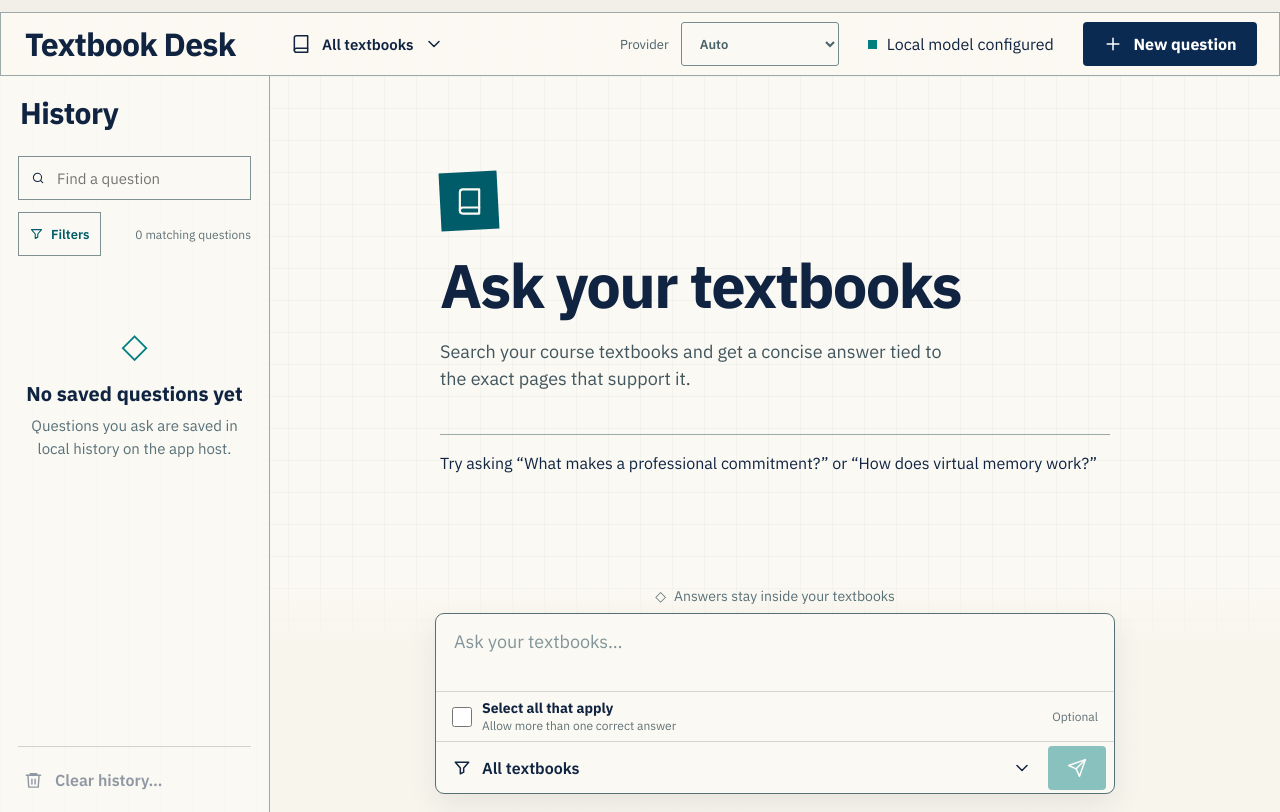
it: Textbook Desk › announces an automatic fallback without changing the user selection
Type "Explain this" into the text box with placeholder "Ask your textbooks…" at (775, 650), box [436,614,1114,687]
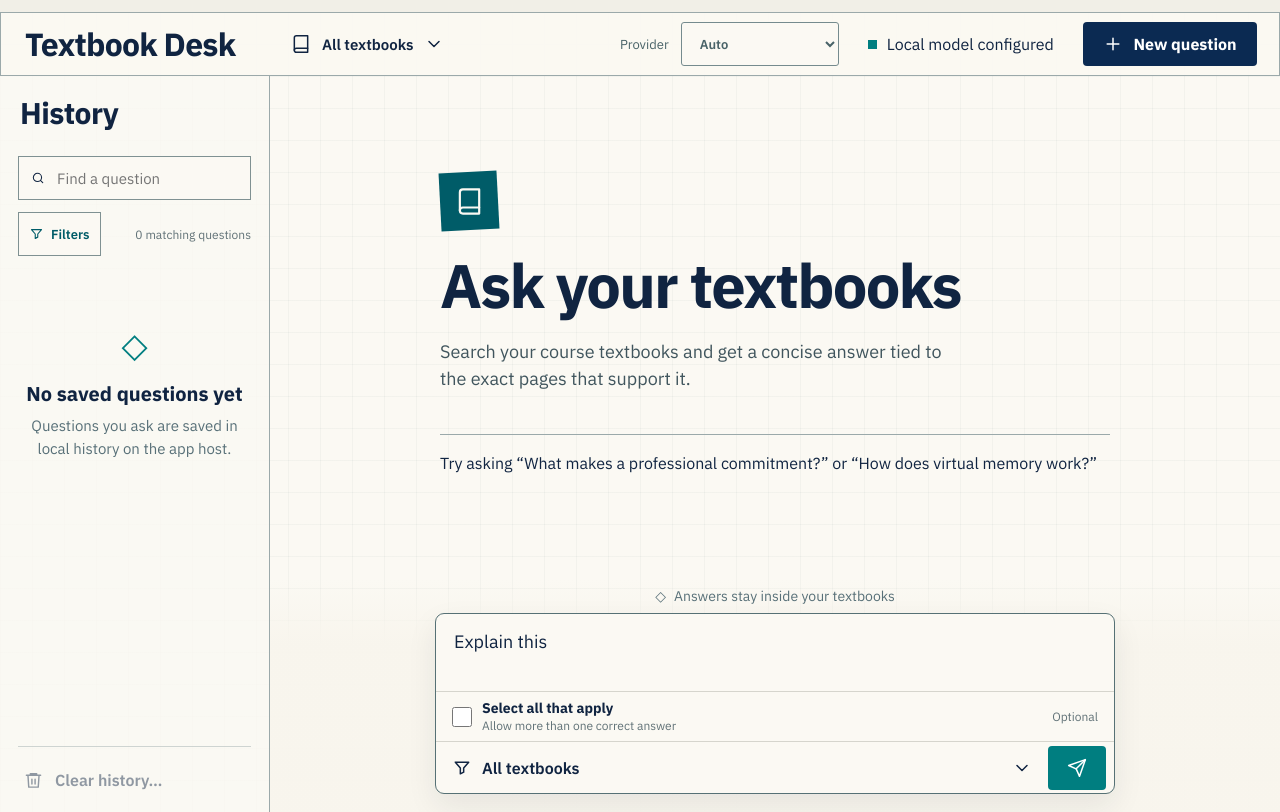
Click the button named "Ask question" at (1077, 768), box [1048,746,1106,790]
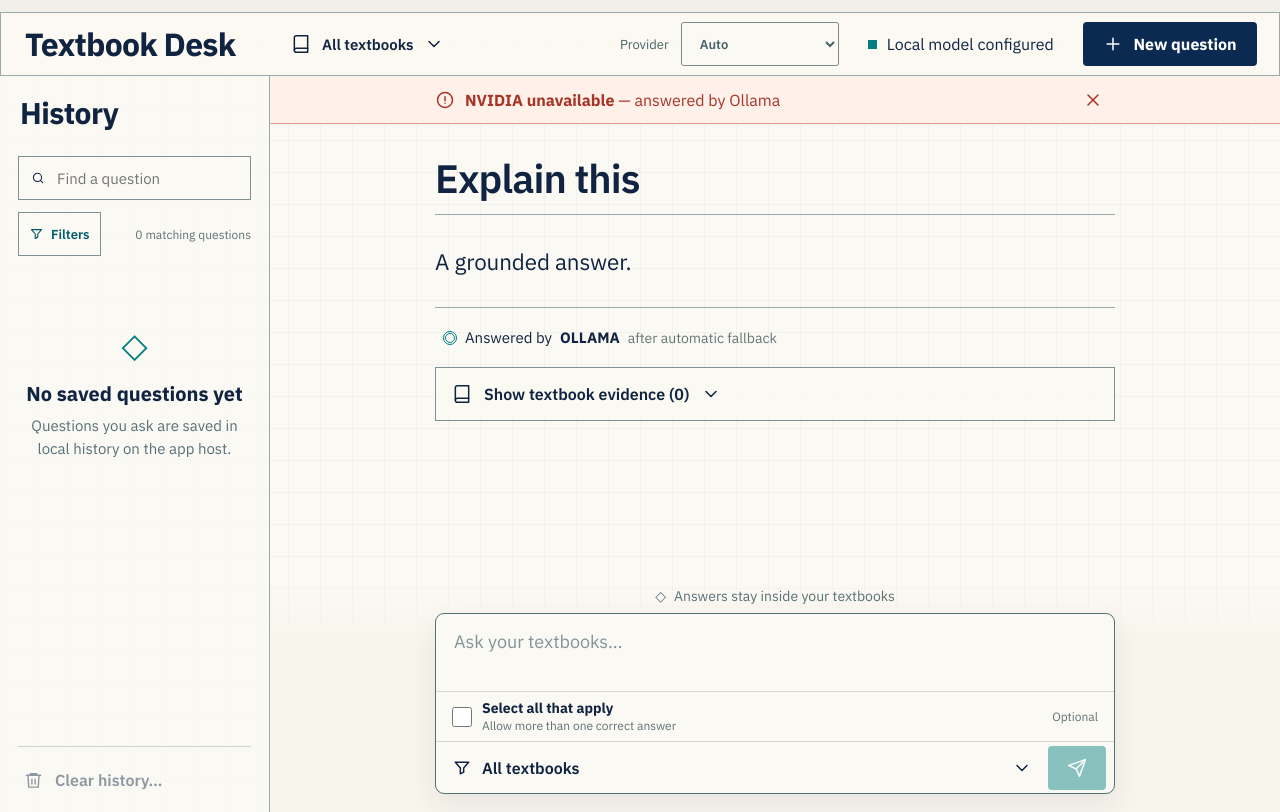
Expected: the dropdown named "Answer provider" shows "Auto", [681,22,839,66]
Now the text "NVIDIA unavailable" is shown, box [465,90,614,110]
Click the button named "Dismiss fallback notice" at (1093, 100), box [1071,78,1115,122]
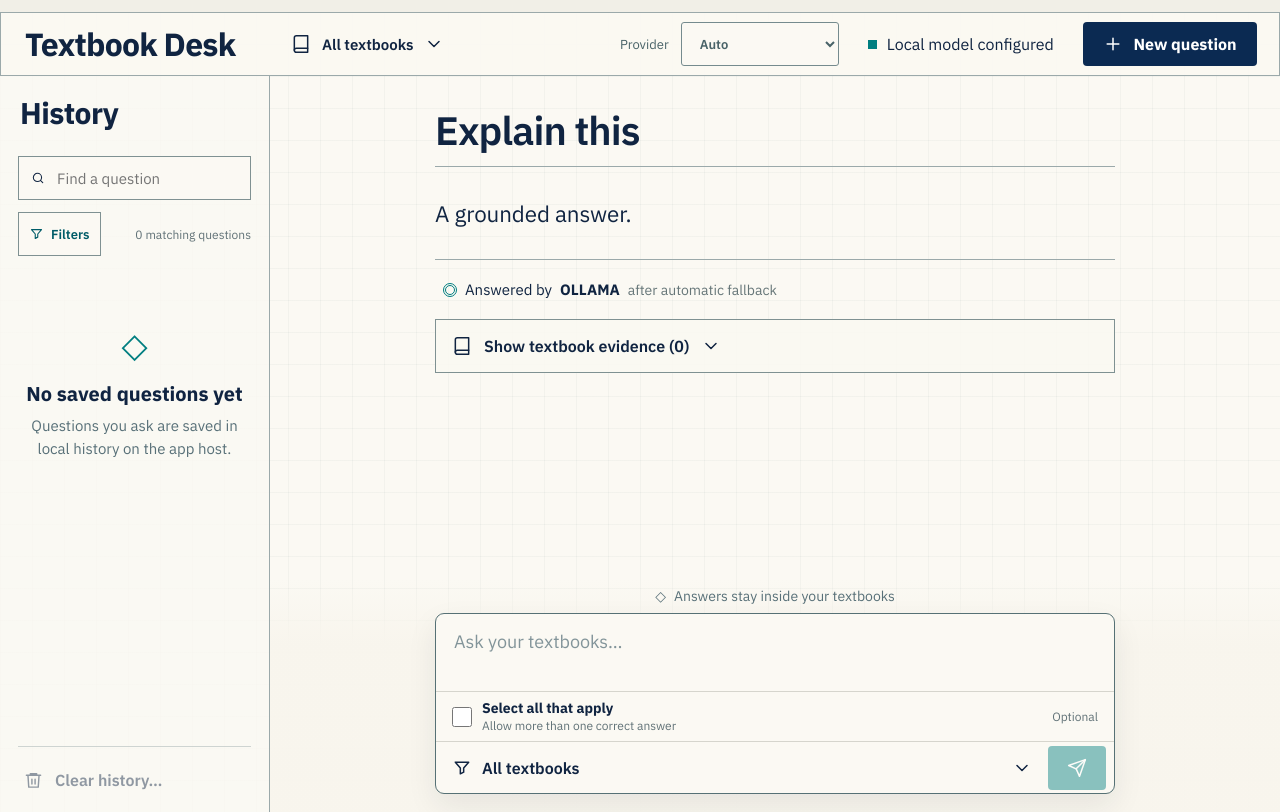
Now the text "NVIDIA unavailable" is gone
